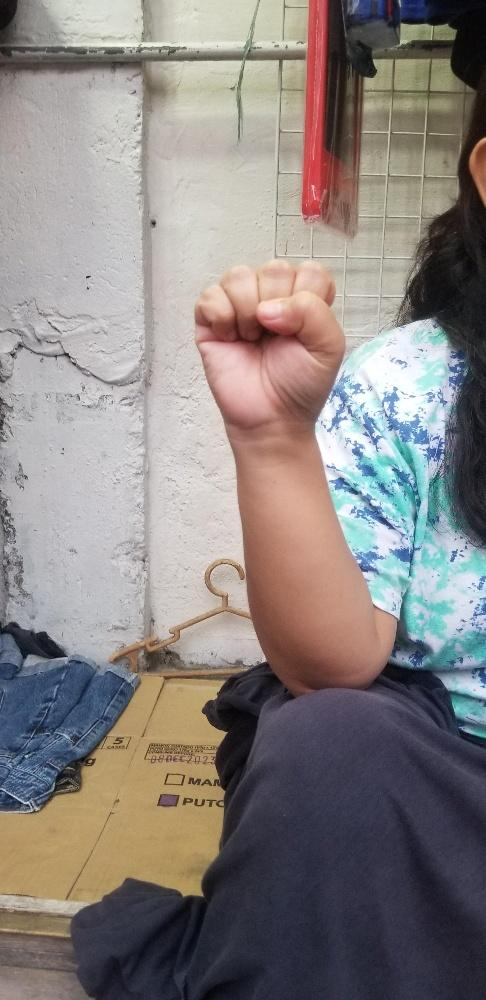s: (192, 257, 346, 423)
